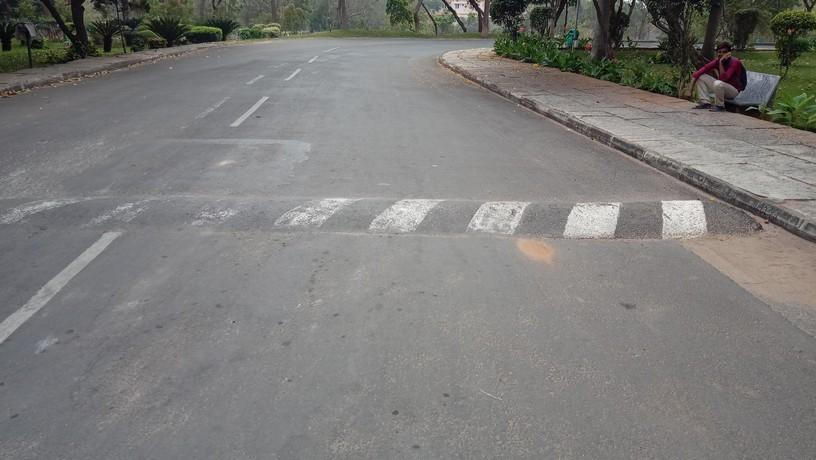speed-bump: (3, 192, 765, 240)
